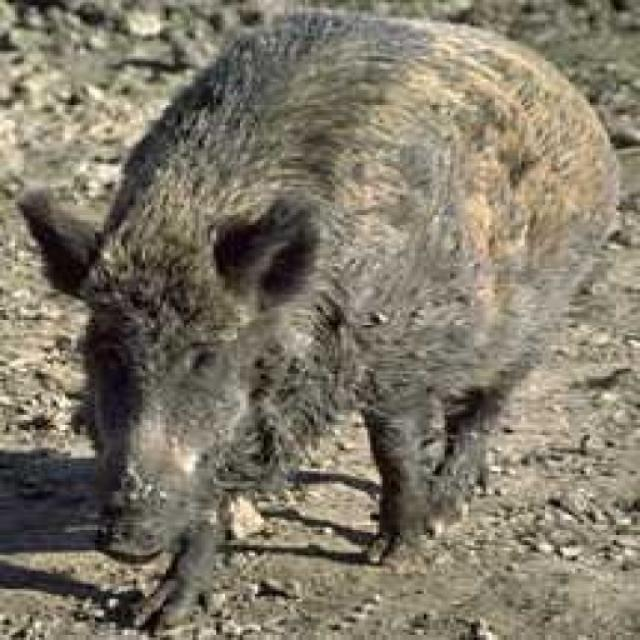pig: (36, 13, 593, 564)
